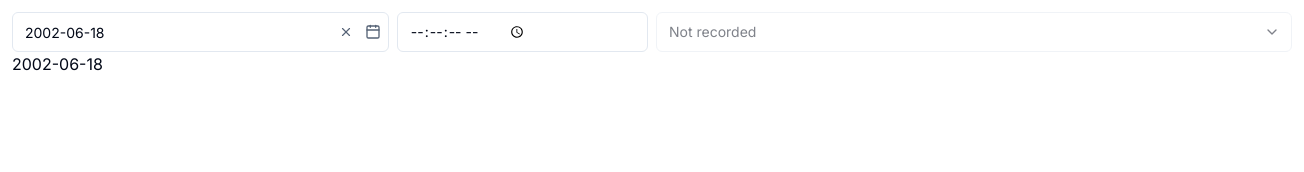
Test: DiveStartTimeField on a dive whose time of day was never recorded › becomes a date-time with no offset once a time is typed
Step 1. Type "10:30" into the time field named "Time" → (522, 32), box x1=397 y1=12 x2=648 y2=52
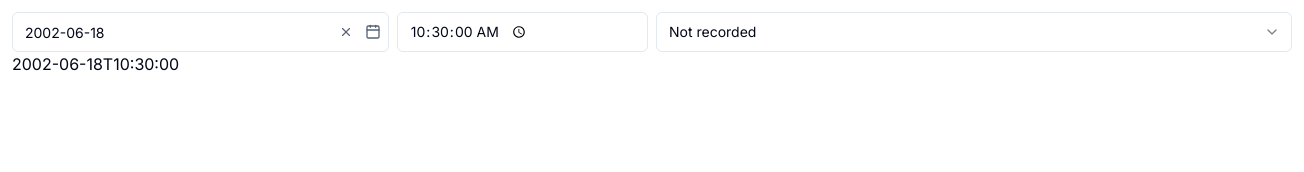
Expected: the text with test id "committed" reads "2002-06-18T10:30:00", x1=12 y1=54 x2=179 y2=74
Expected: the time field named "Time" holds "10:30:00", x1=397 y1=12 x2=648 y2=52
Expected: the dropdown named "UTC offset" is enabled, x1=656 y1=12 x2=1292 y2=52
